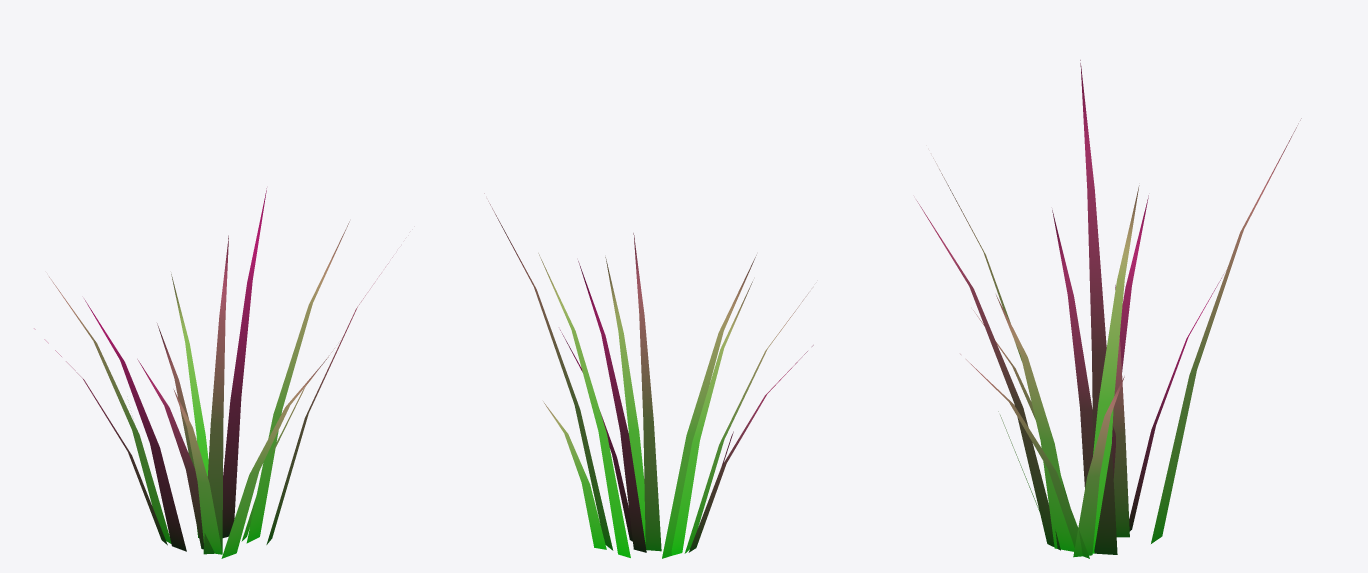
Rendered from grass_b_lod.glb.
3 views of the same model, side by side, from view 1: azimuth 30°, elevation 25°; view 2: azimuth 150°, elevation 25°; view 3: azimuth 270°, elevation 25° (orthographic). The views are drawn at different scales.
Visible parts, largest first — view 1: Grass_B_lod; view 2: Grass_B_lod; view 3: Grass_B_lod.
Boxes of the visible parts, bbox=[...] form: Grass_B_lod: bbox=[34, 188, 392, 558]; Grass_B_lod: bbox=[484, 193, 813, 558]; Grass_B_lod: bbox=[916, 60, 1301, 558].
Size of the model in its own units: 0.9762 by 1.24 by 0.9588.
